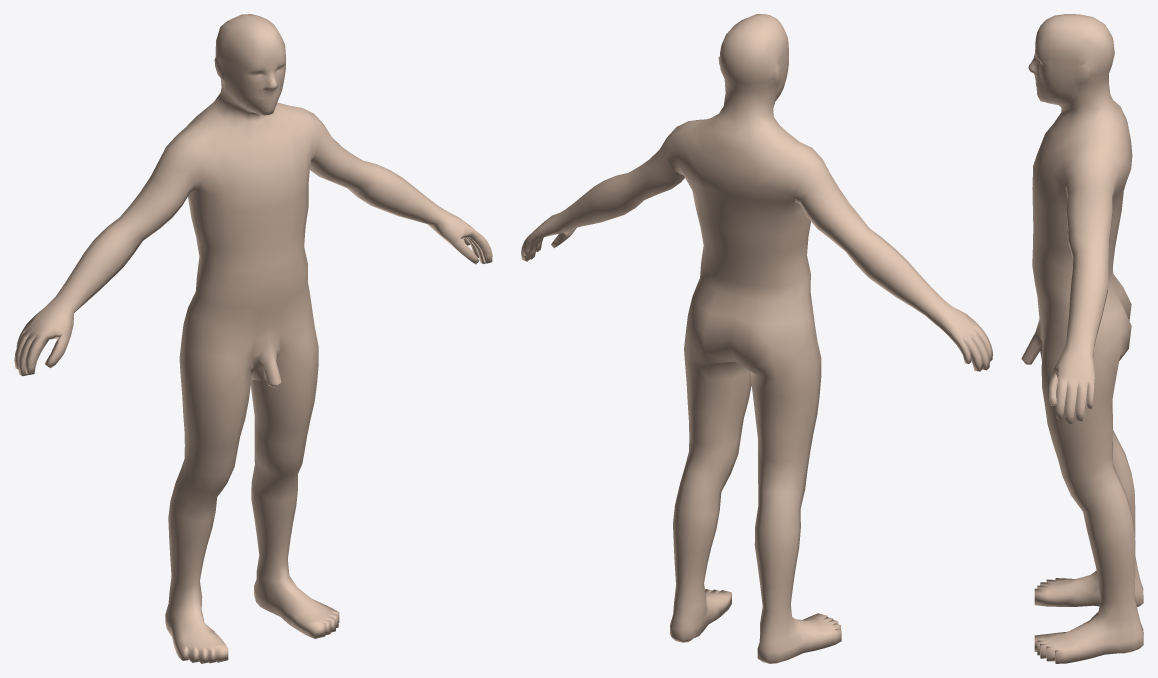
Rendered from human.fbx.
3 views of the same model, side by side, from view 1: azimuth 30°, elevation 25°; view 2: azimuth 150°, elevation 25°; view 3: azimuth 270°, elevation 25° (orthographic).
Parts seen in each view (by area): view 1: CharacterMale:man; view 2: CharacterMale:man; view 3: CharacterMale:man.
Part boxes in pixels (x1=…): CharacterMale:man: x1=14, y1=14, x2=492, y2=663; CharacterMale:man: x1=521, y1=14, x2=992, y2=663; CharacterMale:man: x1=1021, y1=14, x2=1143, y2=663.
Bounding box in the file's own units: 144 × 182 × 32.94.
